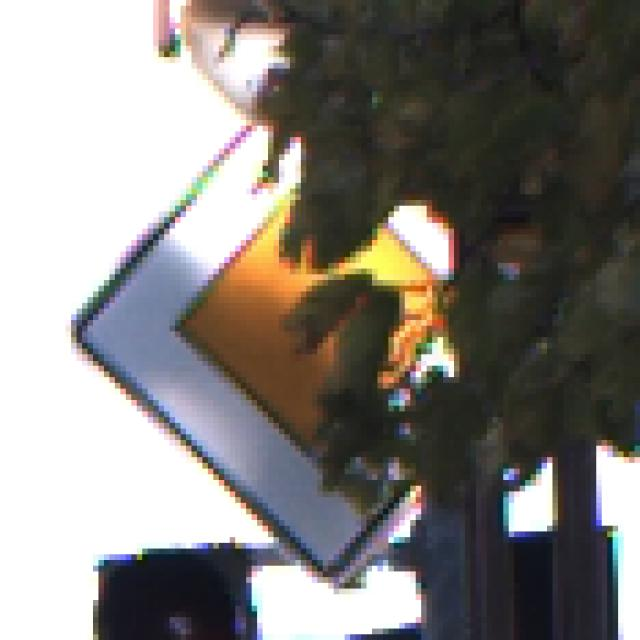Main Road: (61, 58, 586, 590)
